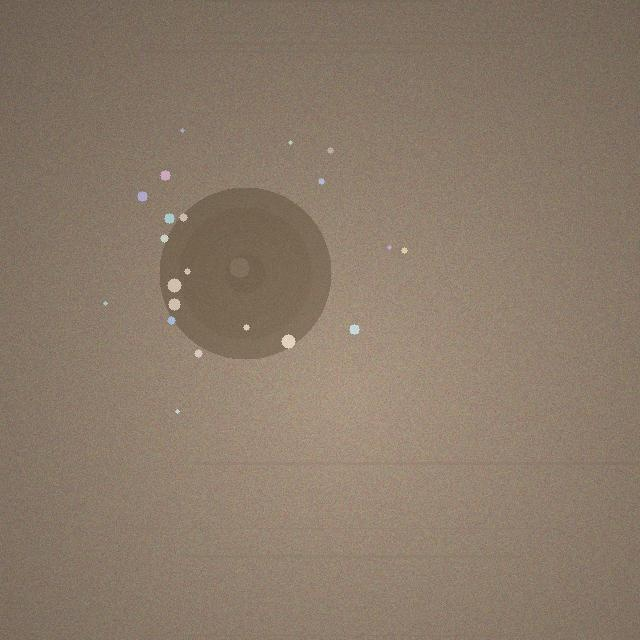overburn: (159, 187, 331, 359)
